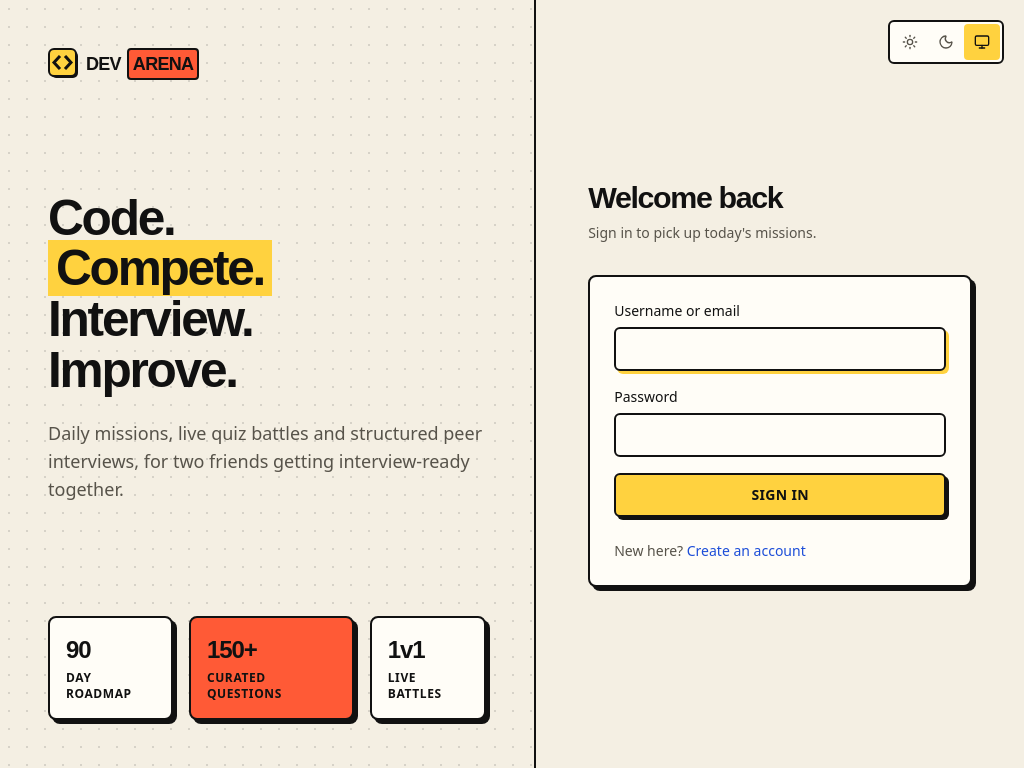
Auth forms › shows the server message on bad credentials
Type "alice" into the field labelled "Username or email".
click(780, 349); type("alice")  # box x1=614 y1=327 x2=946 y2=371
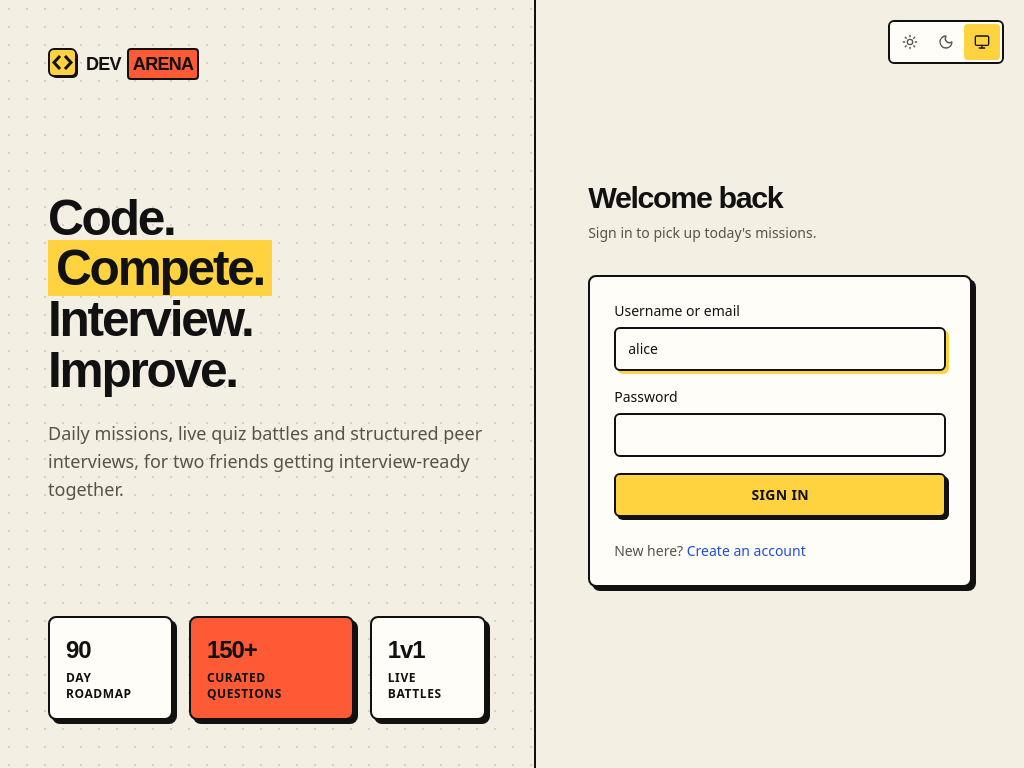
Type "wrong-password" into the password field labelled "Password".
click(780, 435); type("wrong-password")  # box x1=614 y1=413 x2=946 y2=457
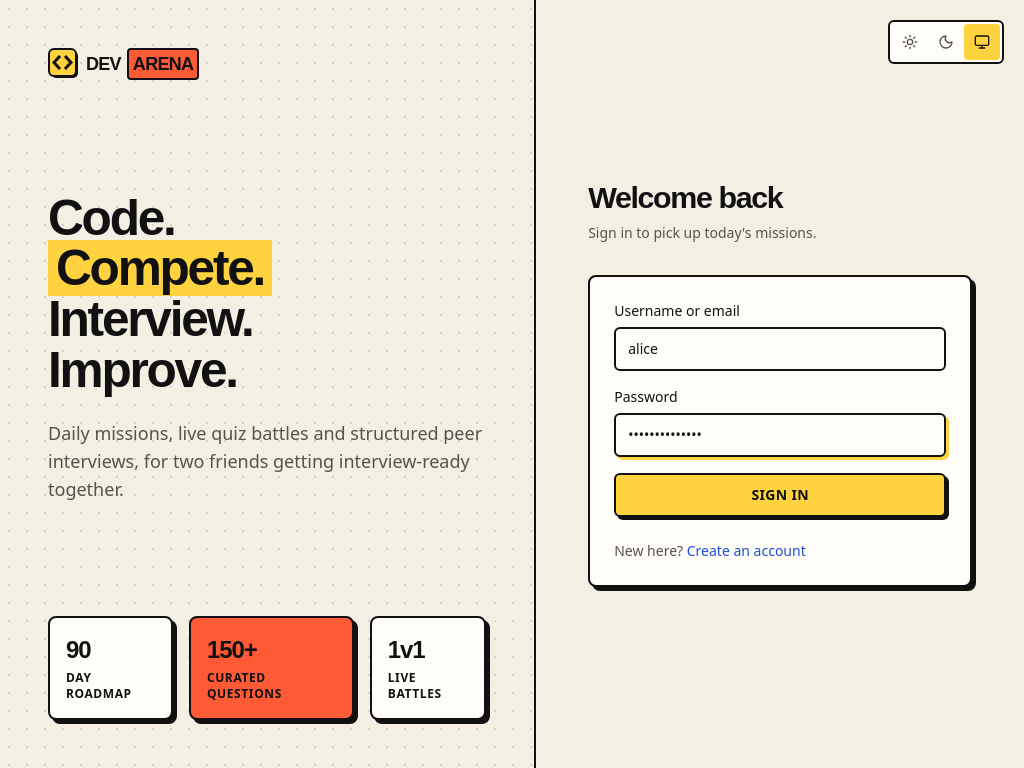
Click the button "Sign in".
click(780, 495)  # box x1=614 y1=473 x2=946 y2=517
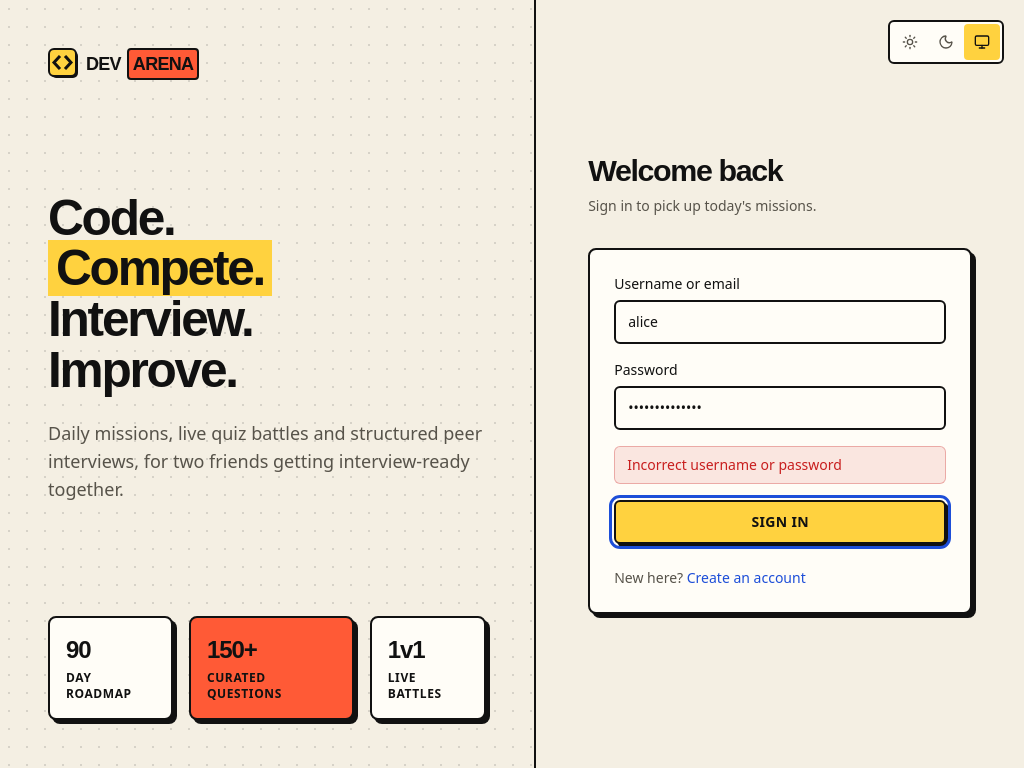
Expected: the text "Incorrect username or password" is shown, x1=614 y1=446 x2=946 y2=484
